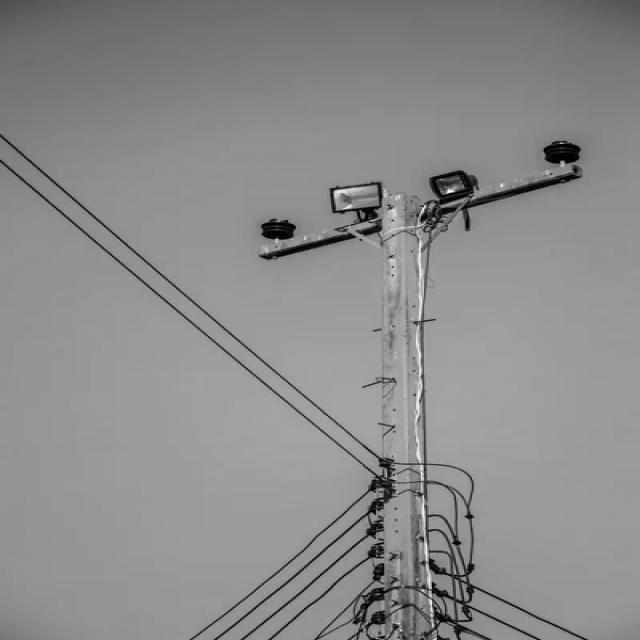Pole: (381, 193, 438, 640)
